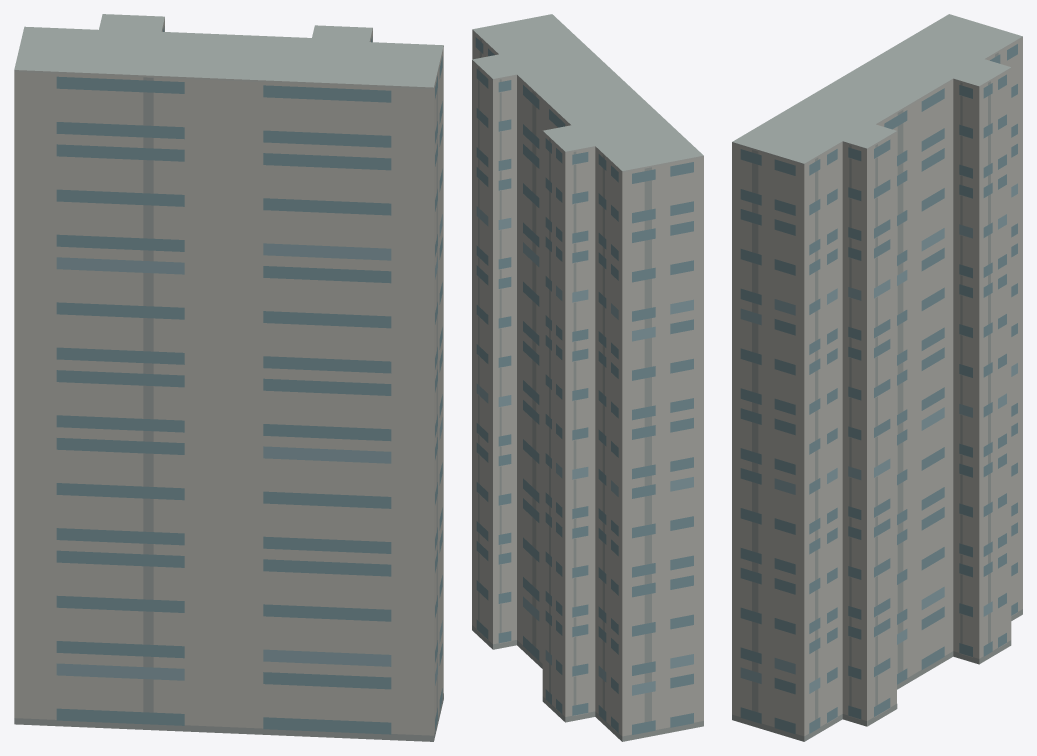
The model's file is residential-25993b52-647b-43db-9fa5-72db897fee8e.glb.
3 renders of one model, left to right at view 1: azimuth 30°, elevation 25°; view 2: azimuth 150°, elevation 25°; view 3: azimuth 270°, elevation 25°, orthographic. The views are drawn at different scales.
Parts seen in each view (by area): view 1: residential-25993b52-647b-43db-9fa5-72db897fee8e.tmp; view 2: residential-25993b52-647b-43db-9fa5-72db897fee8e.tmp; view 3: residential-25993b52-647b-43db-9fa5-72db897fee8e.tmp.
Boxes of the visible parts, <box> form: residential-25993b52-647b-43db-9fa5-72db897fee8e.tmp: <box>14,14,443,741</box>; residential-25993b52-647b-43db-9fa5-72db897fee8e.tmp: <box>472,14,703,741</box>; residential-25993b52-647b-43db-9fa5-72db897fee8e.tmp: <box>732,14,1022,741</box>.
Size of the model in its own units: 45.03 by 81 by 36.95.
